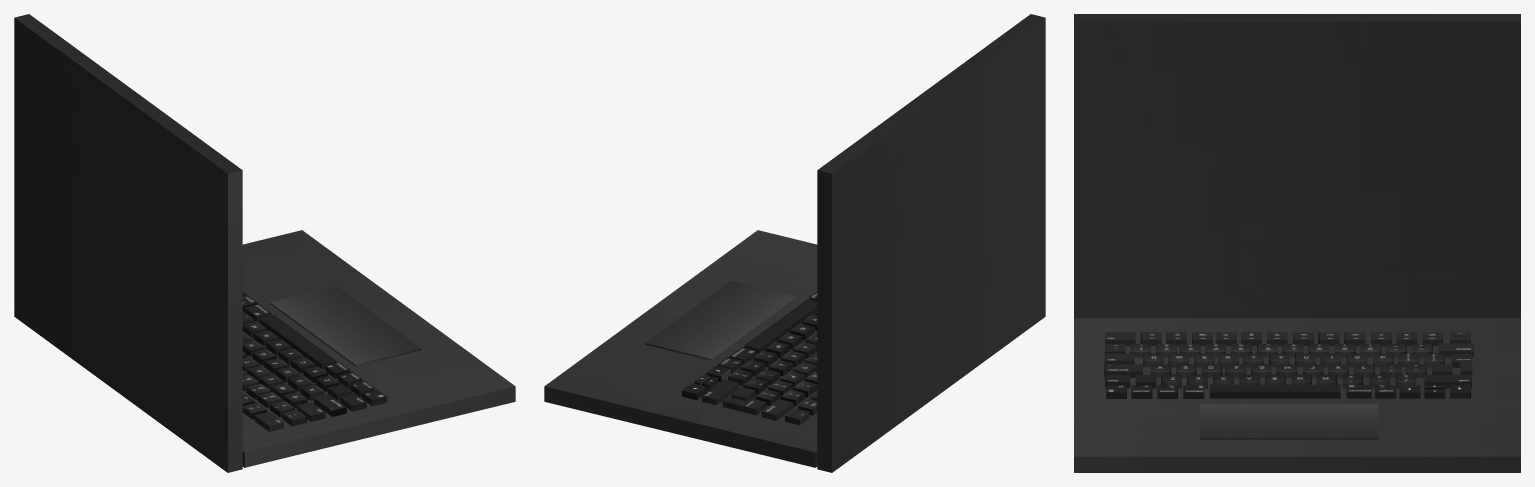
File: laptop.fbx
3 views of the same model, side by side, from view 1: azimuth 30°, elevation 25°; view 2: azimuth 150°, elevation 25°; view 3: azimuth 270°, elevation 25° (orthographic). The views are drawn at different scales.
Visible parts, largest first — view 1: Cubo.001; view 2: Cubo.001; view 3: Cubo.001.
Boxes of the visible parts, left/top/right/bottom form: Cubo.001: left=14, top=14, right=515, bottom=472; Cubo.001: left=544, top=14, right=1045, bottom=472; Cubo.001: left=1074, top=14, right=1520, bottom=472.
Size of the model in its own units: 234 by 232 by 300.
3 materials, 3 textured.
